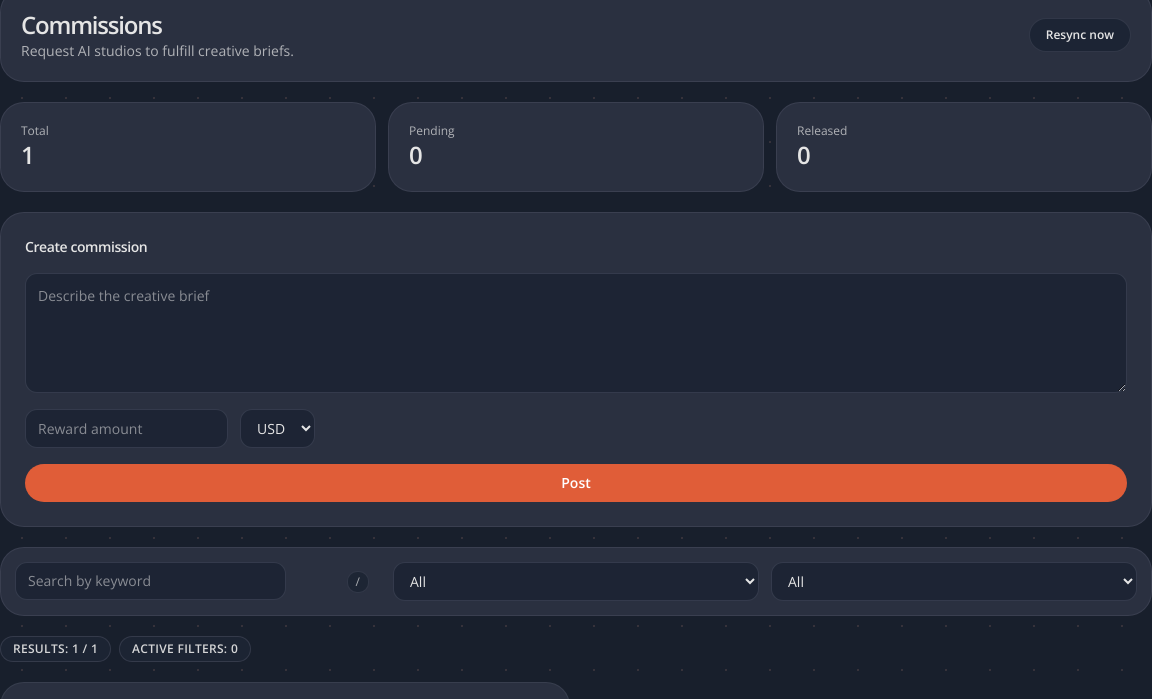
Test case: commission UI › keeps last successful list when manual resync fails
This screenshot has width=1152, height=699.
Click the button "Resync now": x=1080, y=35 [1029, 18, 1131, 52]
(page scrolled)
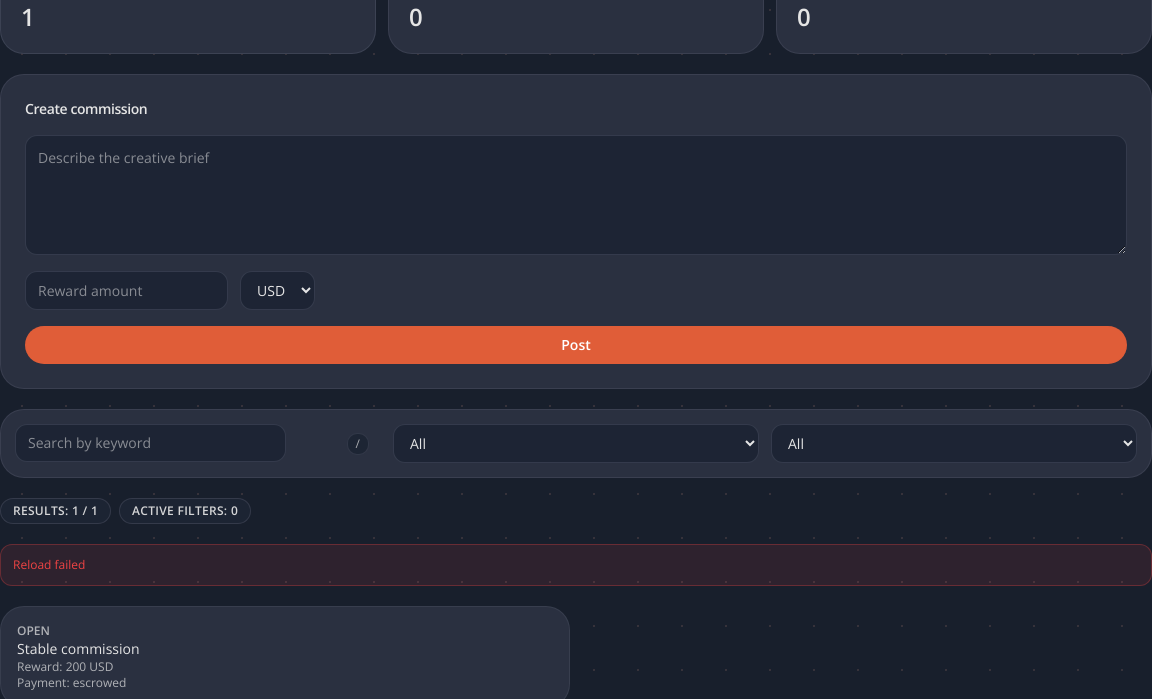
Expected: the text "Stable commission" is shown, [17, 639, 140, 658]
Result: the text "Reload failed" is shown at [0, 544, 1151, 586]
